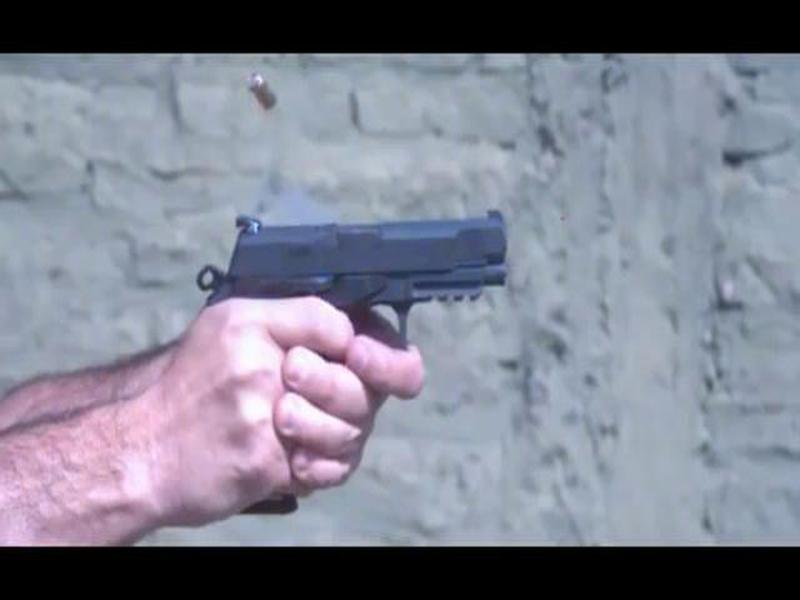Pistola: (148, 177, 576, 362)
